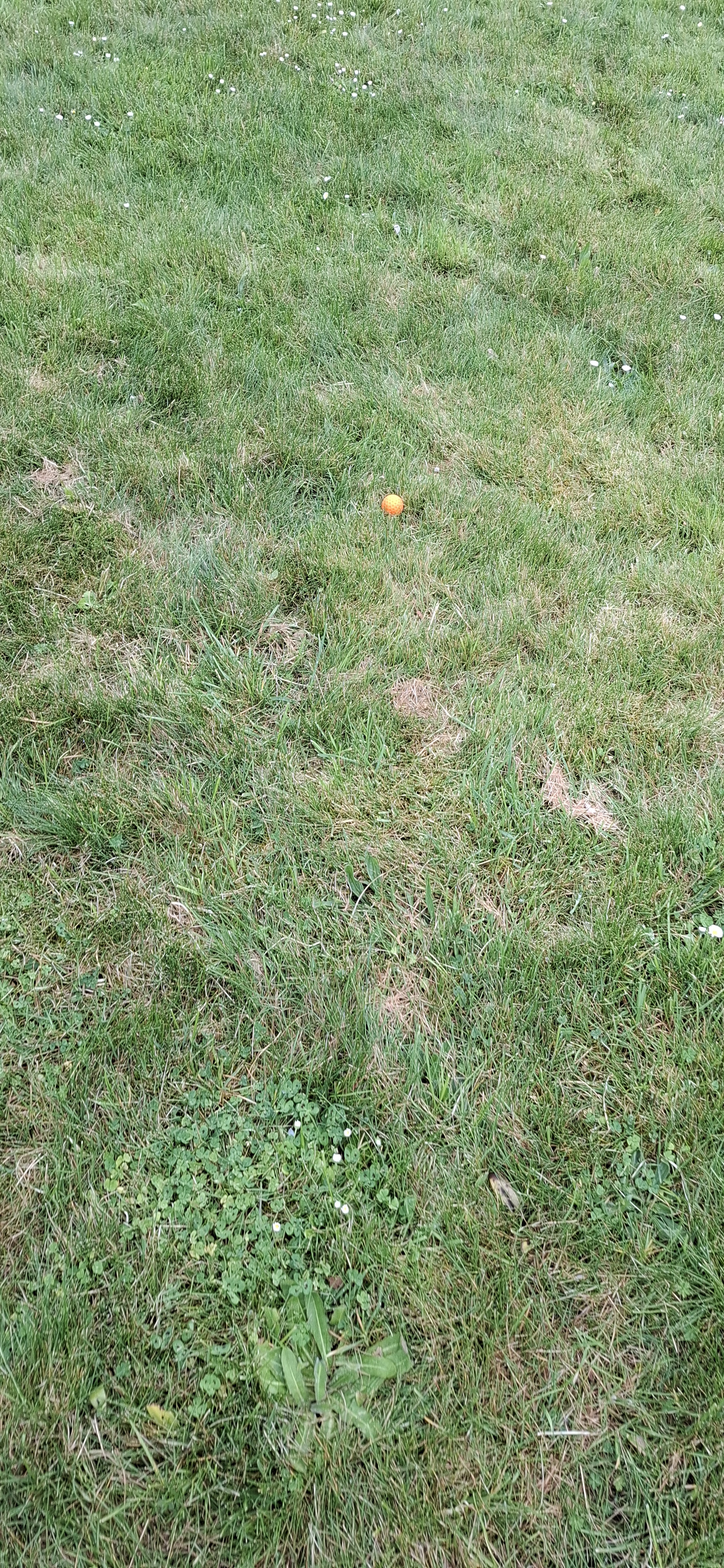ball: (228, 693, 239, 742)
